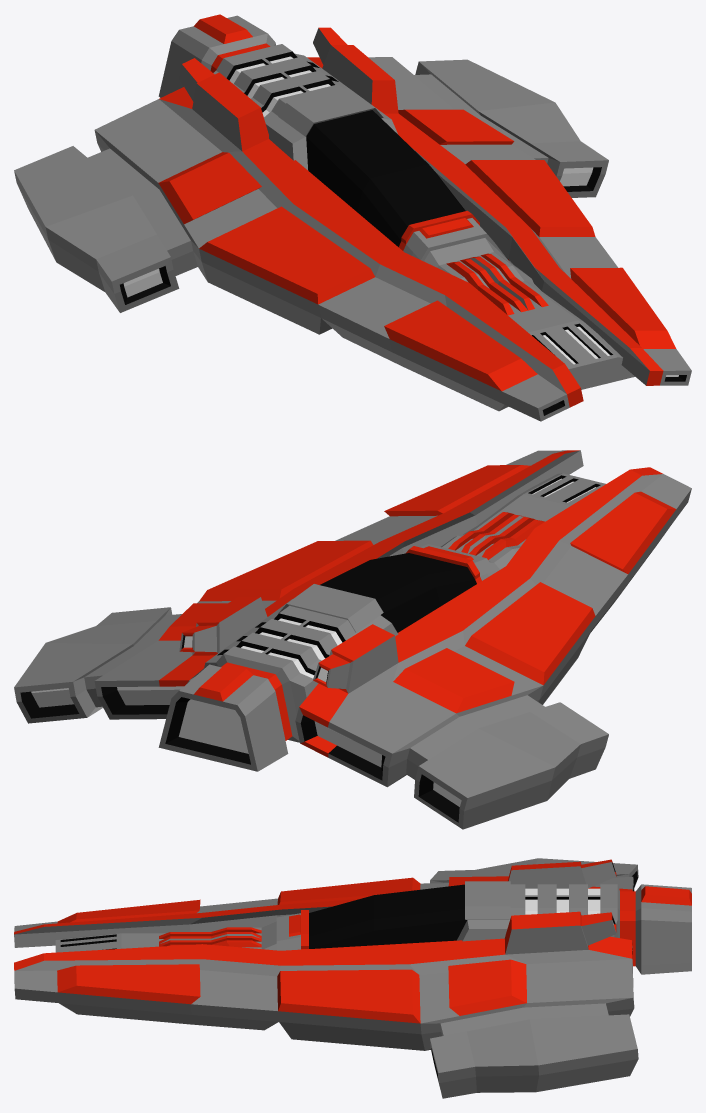
The model's file is ship1.fbx.
3 renders of one model, top to bottom at view 1: azimuth 30°, elevation 25°; view 2: azimuth 150°, elevation 25°; view 3: azimuth 270°, elevation 25°, orthographic. The views are drawn at different scales.
Parts seen in each view (by area): view 1: Cube; view 2: Cube; view 3: Cube.
Part boxes in pixels (x1=…): Cube: x1=14, y1=14, x2=691, y2=421; Cube: x1=14, y1=450, x2=691, y2=829; Cube: x1=14, y1=858, x2=691, y2=1098.
Bounding box in the file's own units: 1054 × 273 × 1458.
